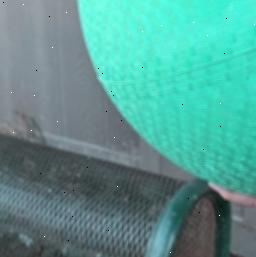algae: (74, 0, 256, 199)
